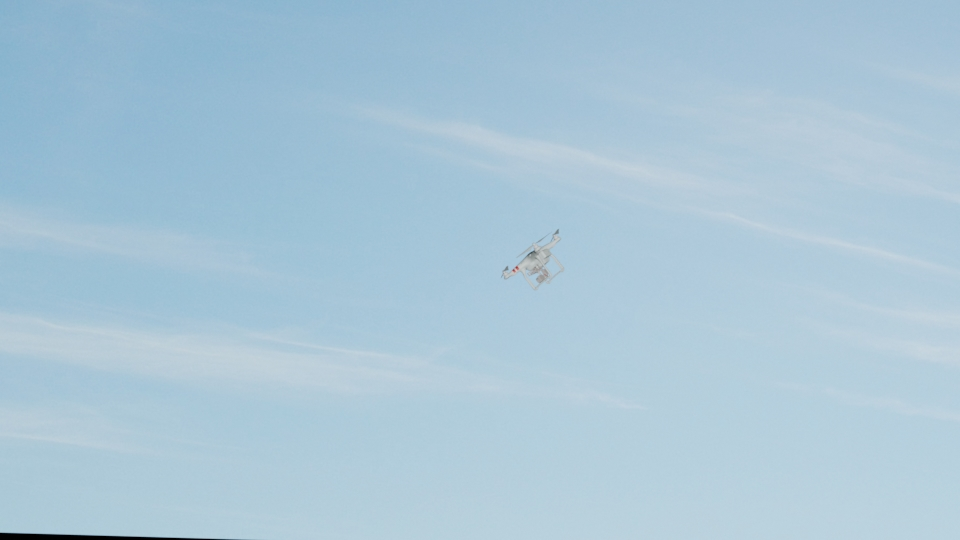drone: (498, 227, 564, 289)
